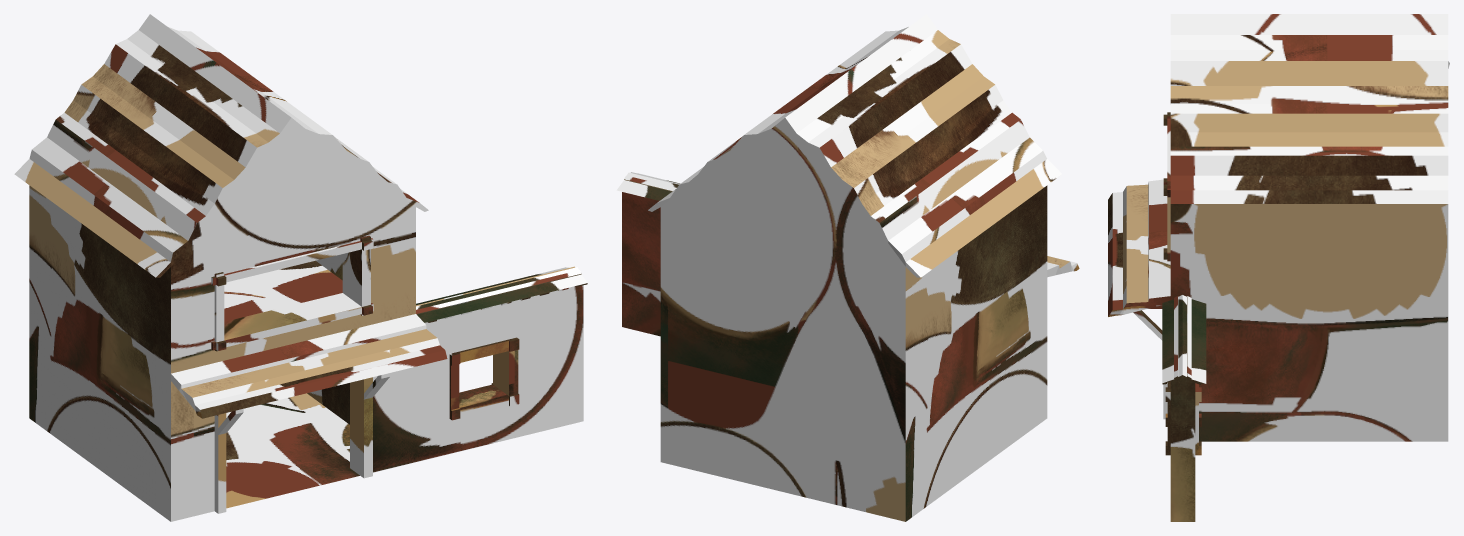
The model's file is House.fbx.
3 renders of one model, left to right at view 1: azimuth 30°, elevation 25°; view 2: azimuth 150°, elevation 25°; view 3: azimuth 270°, elevation 25°, orthographic.
Visible parts, largest first — view 1: house_Vr_improved2; view 2: house_Vr_improved2; view 3: house_Vr_improved2.
Part boxes in pixels (bbox=[...]): house_Vr_improved2: bbox=[14, 14, 587, 521]; house_Vr_improved2: bbox=[616, 14, 1079, 521]; house_Vr_improved2: bbox=[1108, 14, 1449, 521].
Size of the model in its own units: 349 by 292 by 246.
